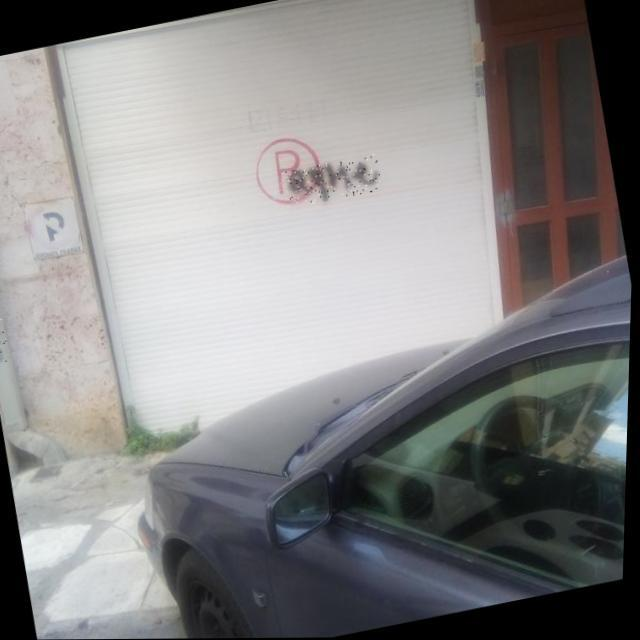-: (286, 154, 386, 208), (0, 313, 13, 364)
